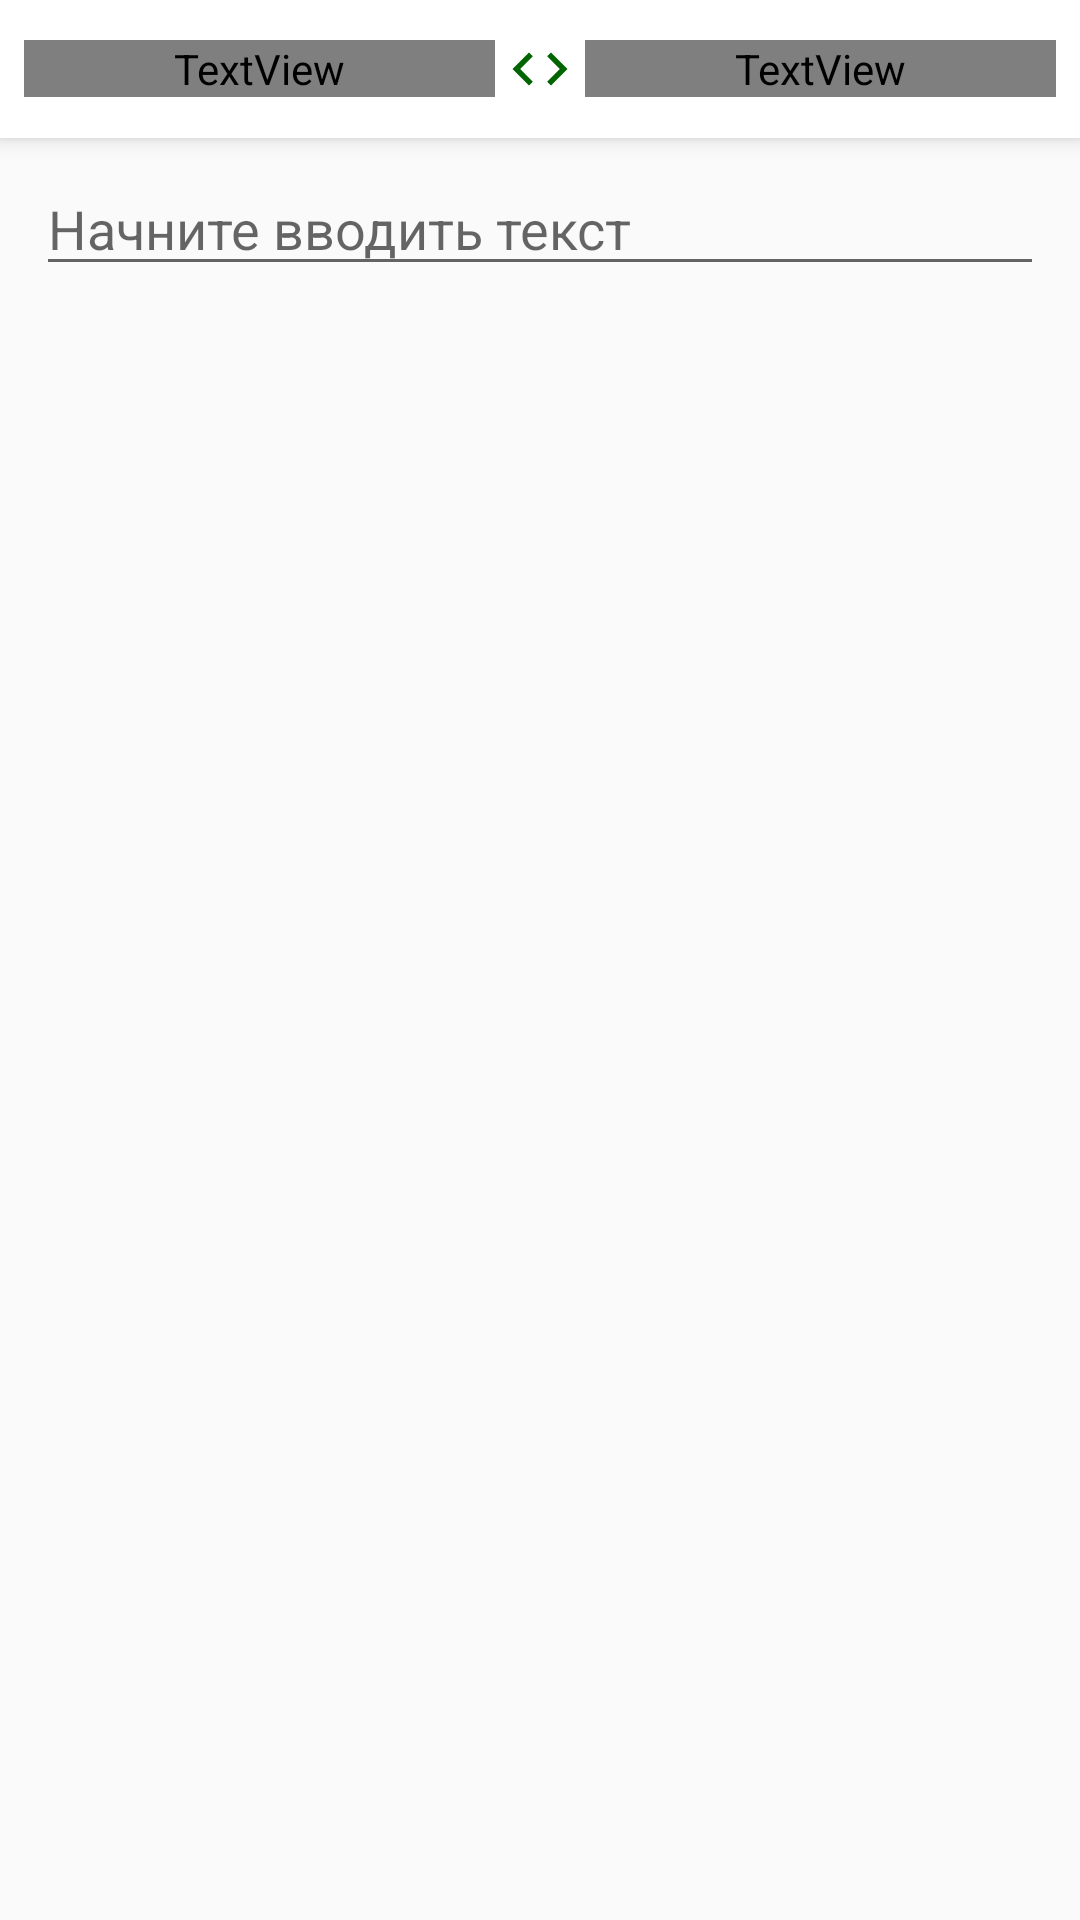

Named icons in this screenshot (1080 x 1920) and their centers, point (x, y):
swap: point (540, 69)
